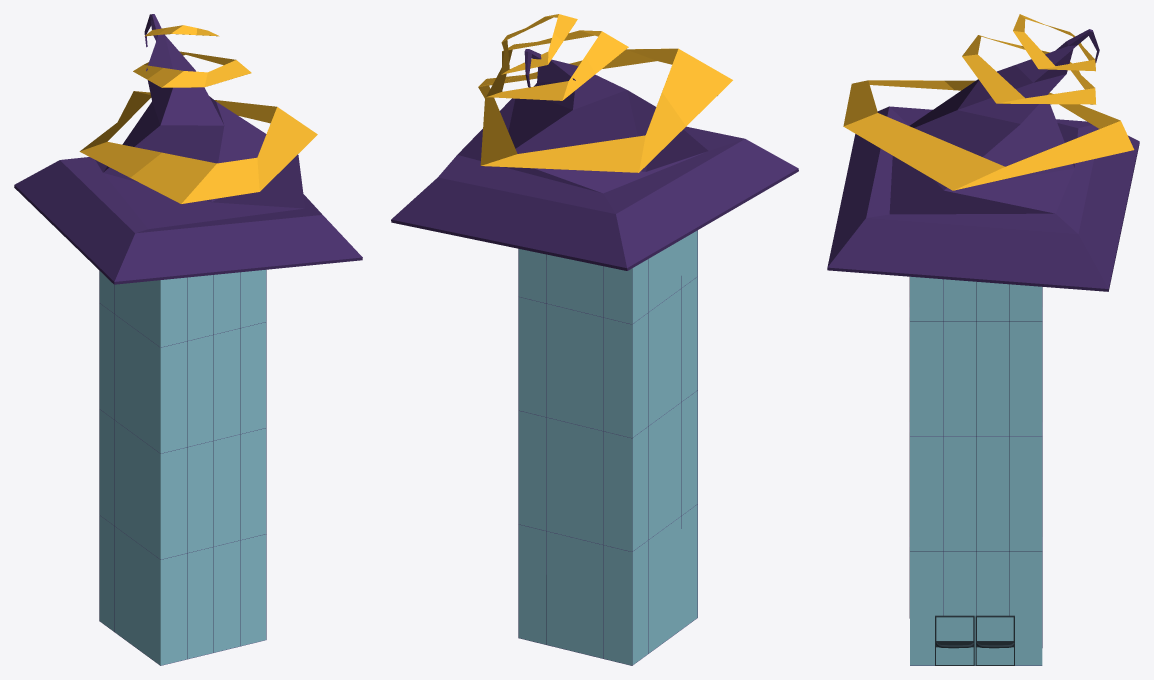
The model's file is WizOfficeTall.fbx.
The picture shows the model from 3 angles, left to right: view 1: azimuth 30°, elevation 25°; view 2: azimuth 150°, elevation 25°; view 3: azimuth 270°, elevation 25°; orthographic projection. The views are drawn at different scales.
Visible parts, largest first — view 1: GlassBuilding; view 2: GlassBuilding; view 3: GlassBuilding.
Boxes of the visible parts, x1=… form: GlassBuilding: x1=14, y1=14, x2=362, y2=665; GlassBuilding: x1=391, y1=14, x2=798, y2=665; GlassBuilding: x1=827, y1=14, x2=1139, y2=665.
Bounding box in the file's own units: 3208 × 6760 × 3029.
